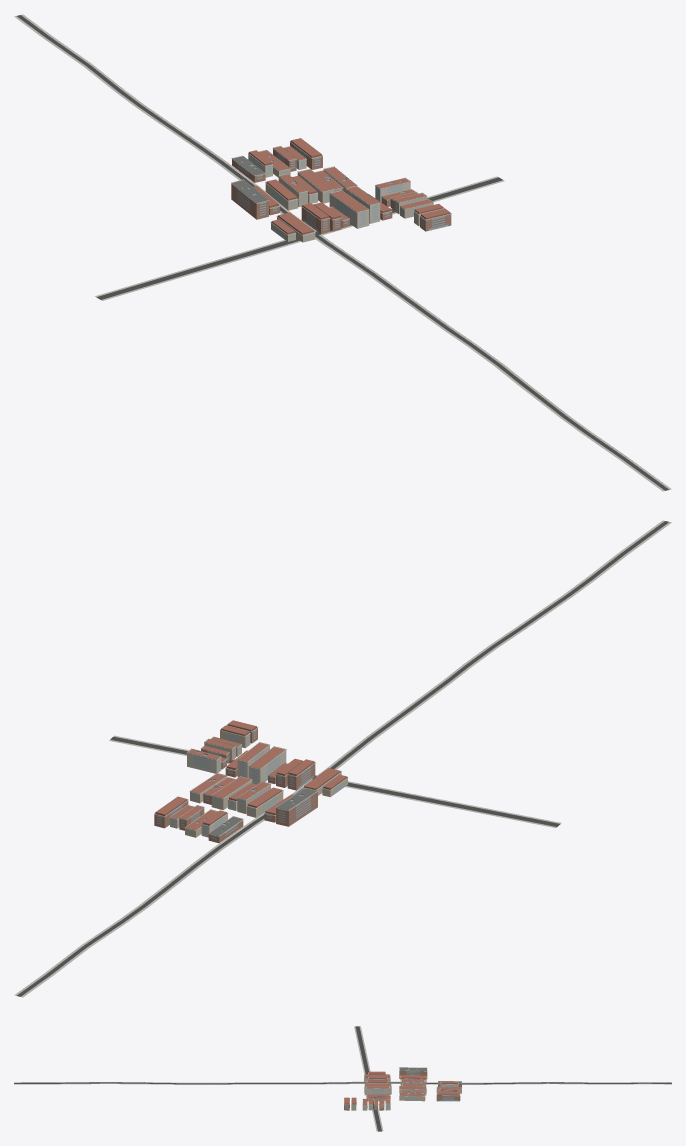
File: tile-m002-p000.glb
3 renders of one model, top to bottom at view 1: azimuth 30°, elevation 25°; view 2: azimuth 150°, elevation 25°; view 3: azimuth 270°, elevation 25°, orthographic. The views are drawn at different scales.
Visible parts, largest first — view 1: road-v-3-mesh-0, road-v-3-mesh-1, road-radial-0-2-mesh-3, road-radial-0-2-mesh-2; view 2: road-v-3-mesh-0, road-v-3-mesh-1, road-radial-0-2-mesh-3, road-radial-0-2-mesh-2; view 3: road-v-3-mesh-0, road-v-3-mesh-1, road-radial-0-2-mesh-3, road-radial-0-2-mesh-2.
Boxes of the visible parts, bbox=[...] form: road-v-3-mesh-0: bbox=[14, 14, 671, 491]; road-v-3-mesh-1: bbox=[17, 15, 668, 490]; road-radial-0-2-mesh-3: bbox=[96, 177, 502, 299]; road-radial-0-2-mesh-2: bbox=[95, 176, 504, 300]; road-v-3-mesh-0: bbox=[14, 520, 671, 997]; road-v-3-mesh-1: bbox=[17, 521, 668, 996]; road-radial-0-2-mesh-3: bbox=[110, 736, 560, 826]; road-radial-0-2-mesh-2: bbox=[109, 735, 561, 827]; road-v-3-mesh-0: bbox=[14, 1081, 671, 1084]; road-v-3-mesh-1: bbox=[14, 1082, 671, 1084]; road-radial-0-2-mesh-3: bbox=[355, 1026, 381, 1131]; road-radial-0-2-mesh-2: bbox=[354, 1026, 383, 1131].
Size of the model in its own units: 606 by 25.75 by 1600.
